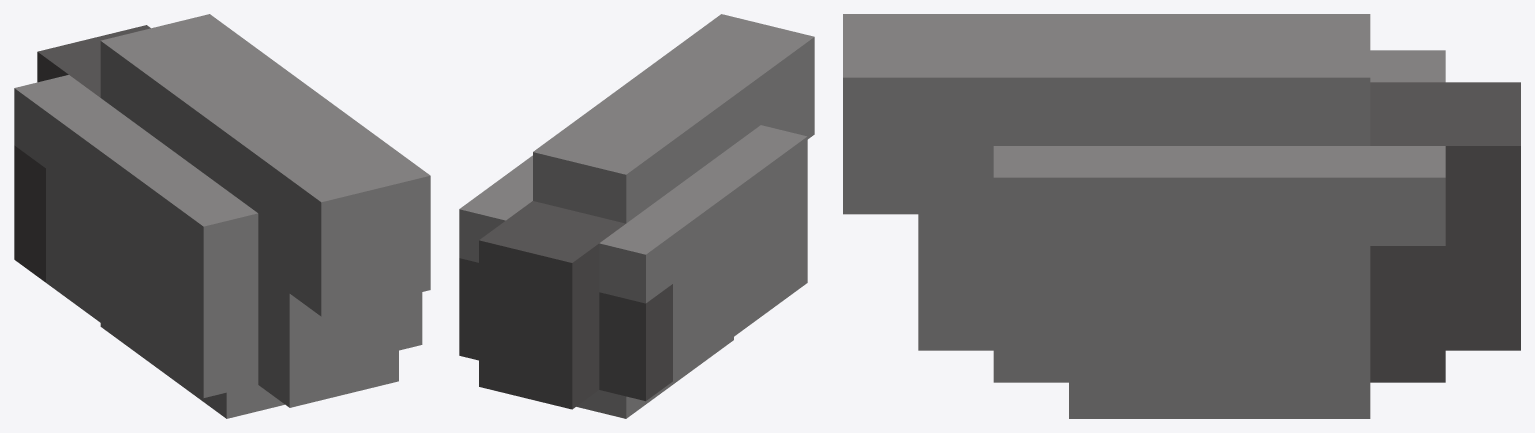
File: wolf__tail.glb
The picture shows the model from 3 angles, left to right: view 1: azimuth 30°, elevation 25°; view 2: azimuth 150°, elevation 25°; view 3: azimuth 270°, elevation 25°; orthographic projection. The views are drawn at different scales.
Parts seen in each view (by area): view 1: wolf__tail; view 2: wolf__tail; view 3: wolf__tail.
Part boxes in pixels (x1,y1,x2,y2): wolf__tail: (14,14,430,418); wolf__tail: (459,14,814,418); wolf__tail: (843,14,1520,418).
Bounding box in the file's own units: 0.4 × 0.5 × 0.9.
1 material, 1 textured.
